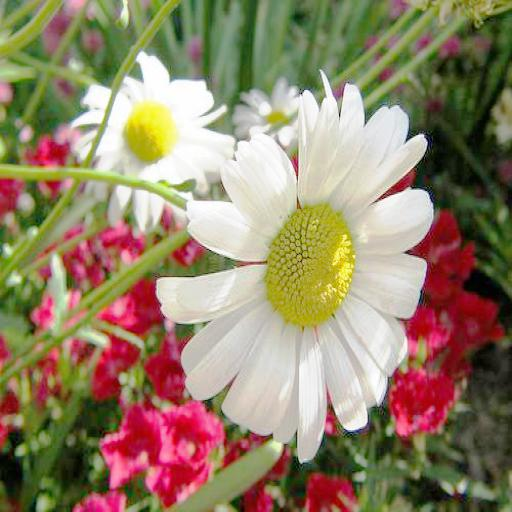daisy: (170, 93, 425, 457), (79, 66, 223, 202)
